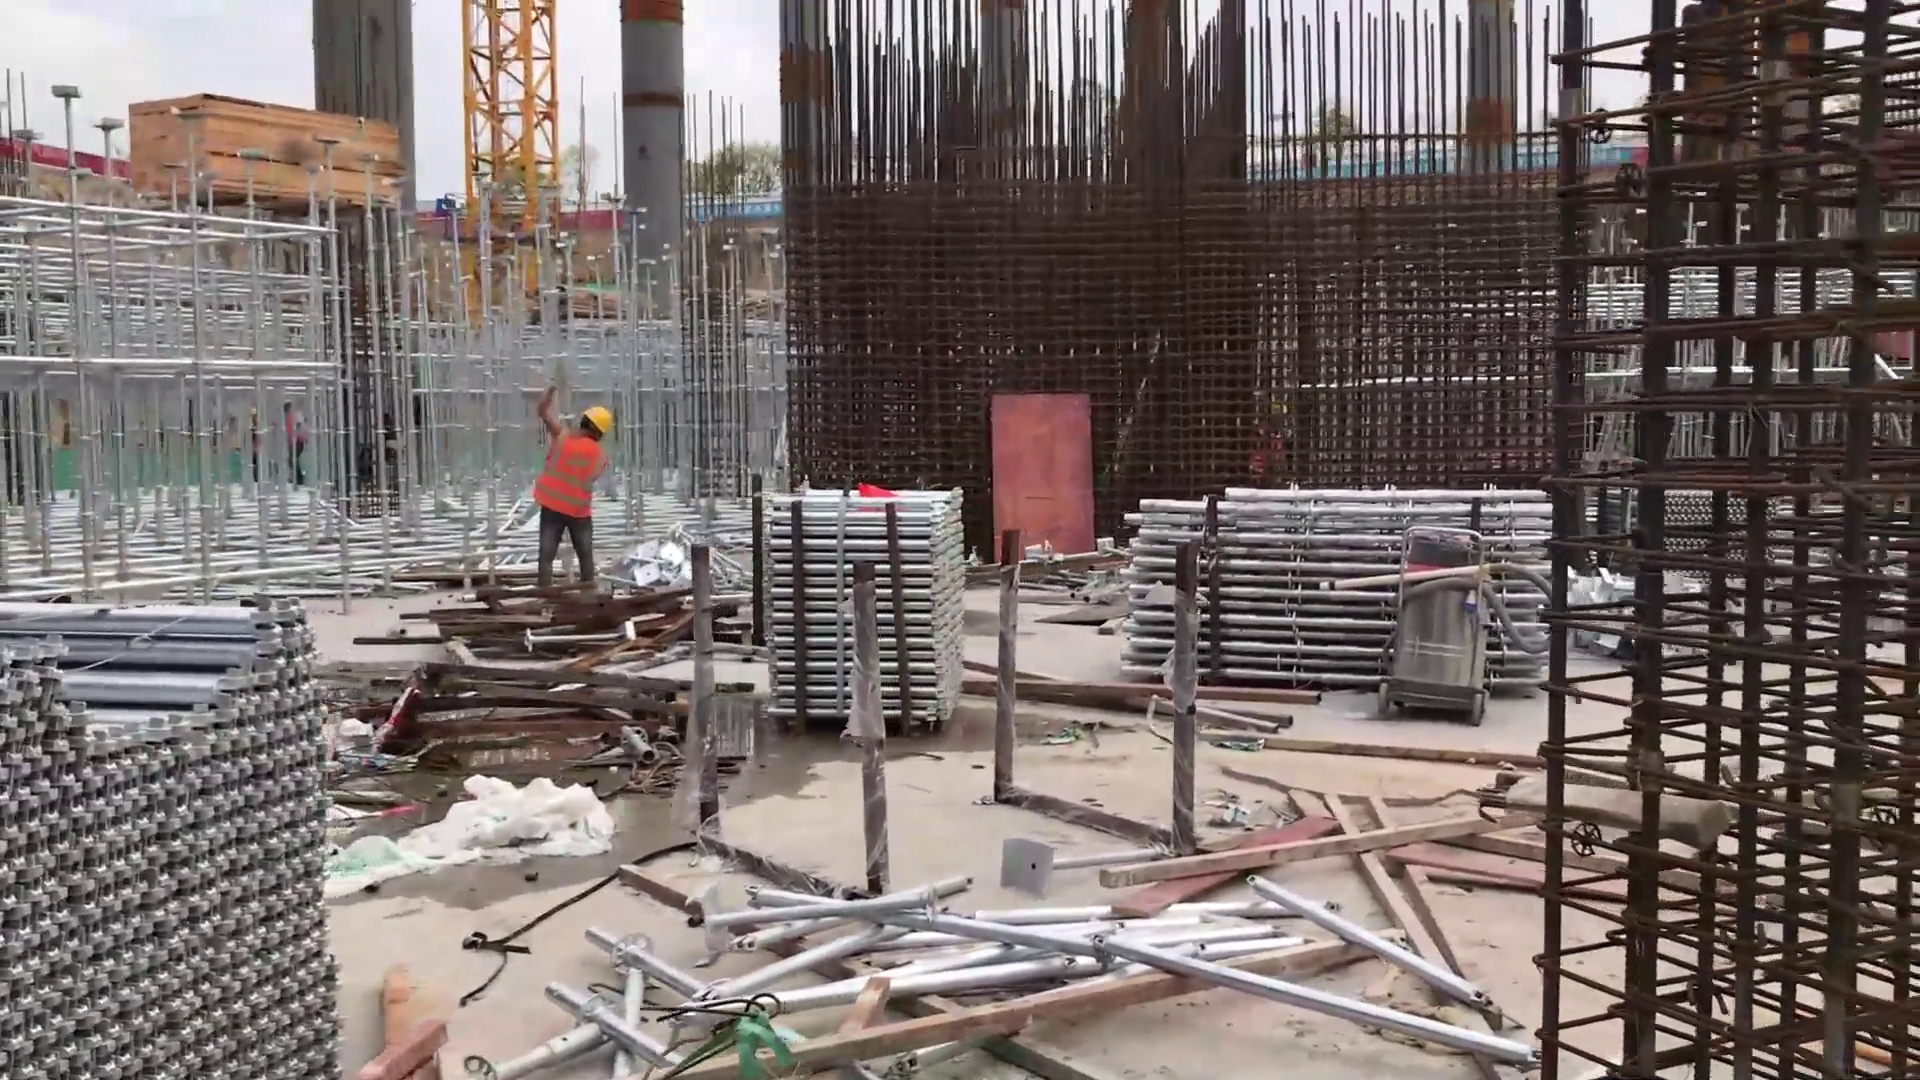board: (122, 92, 413, 214)
fence: (442, 130, 1759, 227)
helmet: (585, 402, 618, 434)
person: (533, 379, 598, 603)
scaffold: (3, 583, 363, 1080), (1117, 491, 1572, 702), (762, 483, 964, 734), (1645, 476, 1772, 614)
slogan: (1294, 148, 1631, 172), (692, 199, 792, 223)
vest: (540, 432, 609, 523)
